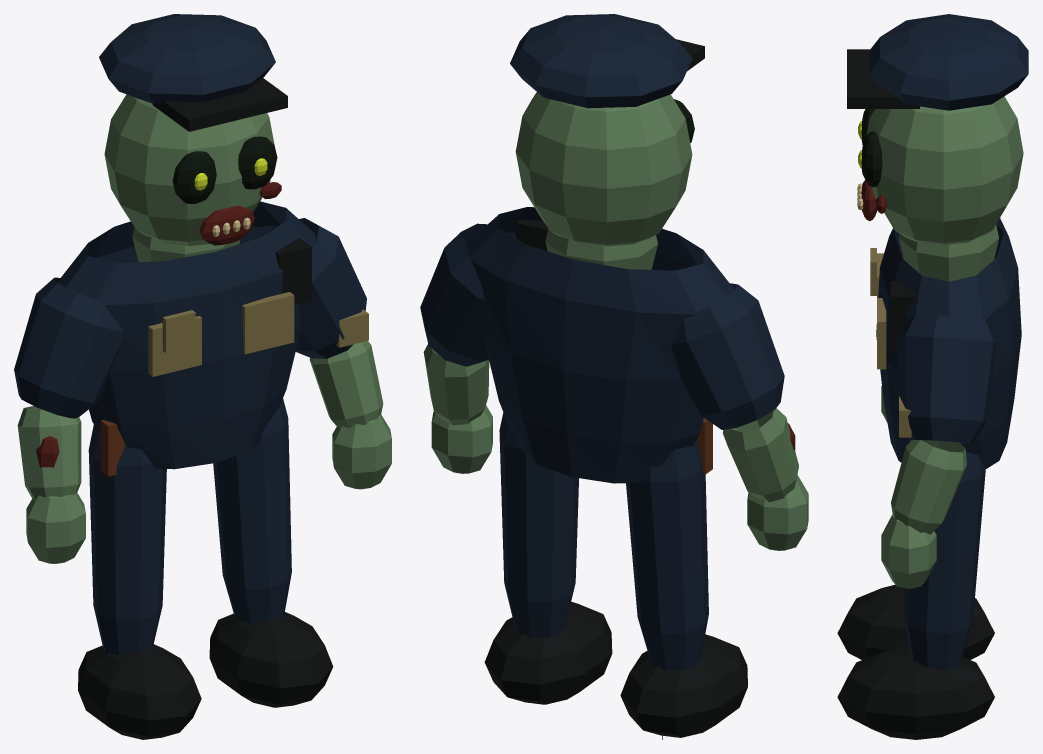
Rendered from Zombie_03_Police_Dummy.obj.
3 renders of one model, left to right at view 1: azimuth 30°, elevation 25°; view 2: azimuth 150°, elevation 25°; view 3: azimuth 270°, elevation 25°, orthographic. The views are drawn at different scales.
Parts seen in each view (by area): view 1: upper_body, head, left_leg, right_leg, cap, left_sleeve, left_boot, right_boot, right_sleeve, left_forearm, right_forearm, left_hand (+12 smaller); view 2: upper_body, head, left_leg, cap, right_leg, left_sleeve, left_boot, right_boot, right_sleeve, left_forearm, right_forearm, left_hand (+4 smaller); view 3: head, upper_body, cap, right_sleeve, right_boot, right_leg, right_forearm, left_boot, neck, right_hand, cap_bill, radio (+5 smaller).
Boxes of the visible parts, x1,y1,x2,y2 form: upper_body: [59, 201, 315, 469]; head: [104, 94, 274, 245]; left_leg: [88, 424, 166, 655]; right_leg: [213, 398, 291, 623]; cap: [99, 14, 275, 104]; left_sleeve: [14, 277, 124, 418]; left_boot: [78, 644, 201, 739]; right_boot: [209, 612, 333, 707]; right_sleeve: [259, 218, 366, 358]; left_forearm: [17, 406, 81, 499]; right_forearm: [309, 341, 383, 428]; left_hand: [26, 493, 85, 563]; upper_body: [468, 207, 733, 483]; head: [515, 92, 692, 246]; left_leg: [626, 439, 708, 671]; cap: [510, 14, 692, 108]; right_leg: [499, 412, 578, 638]; left_sleeve: [671, 283, 784, 429]; left_boot: [620, 634, 747, 737]; right_boot: [484, 601, 612, 704]; right_sleeve: [420, 223, 515, 366]; left_forearm: [723, 408, 798, 502]; right_forearm: [423, 344, 489, 425]; left_hand: [747, 475, 808, 550]; head: [866, 96, 1023, 245]; upper_body: [876, 218, 1021, 468]; cap: [869, 14, 1028, 110]; right_sleeve: [897, 314, 996, 444]; right_boot: [837, 646, 994, 739]; right_leg: [904, 452, 985, 669]; right_forearm: [891, 440, 966, 534]; left_boot: [837, 585, 994, 659]; neck: [899, 224, 998, 281]; right_hand: [881, 514, 936, 588]; cap_bill: [847, 49, 919, 108]; radio: [890, 281, 916, 350].
Size of the model in its own units: 1.15 by 2.03 by 0.5254.
